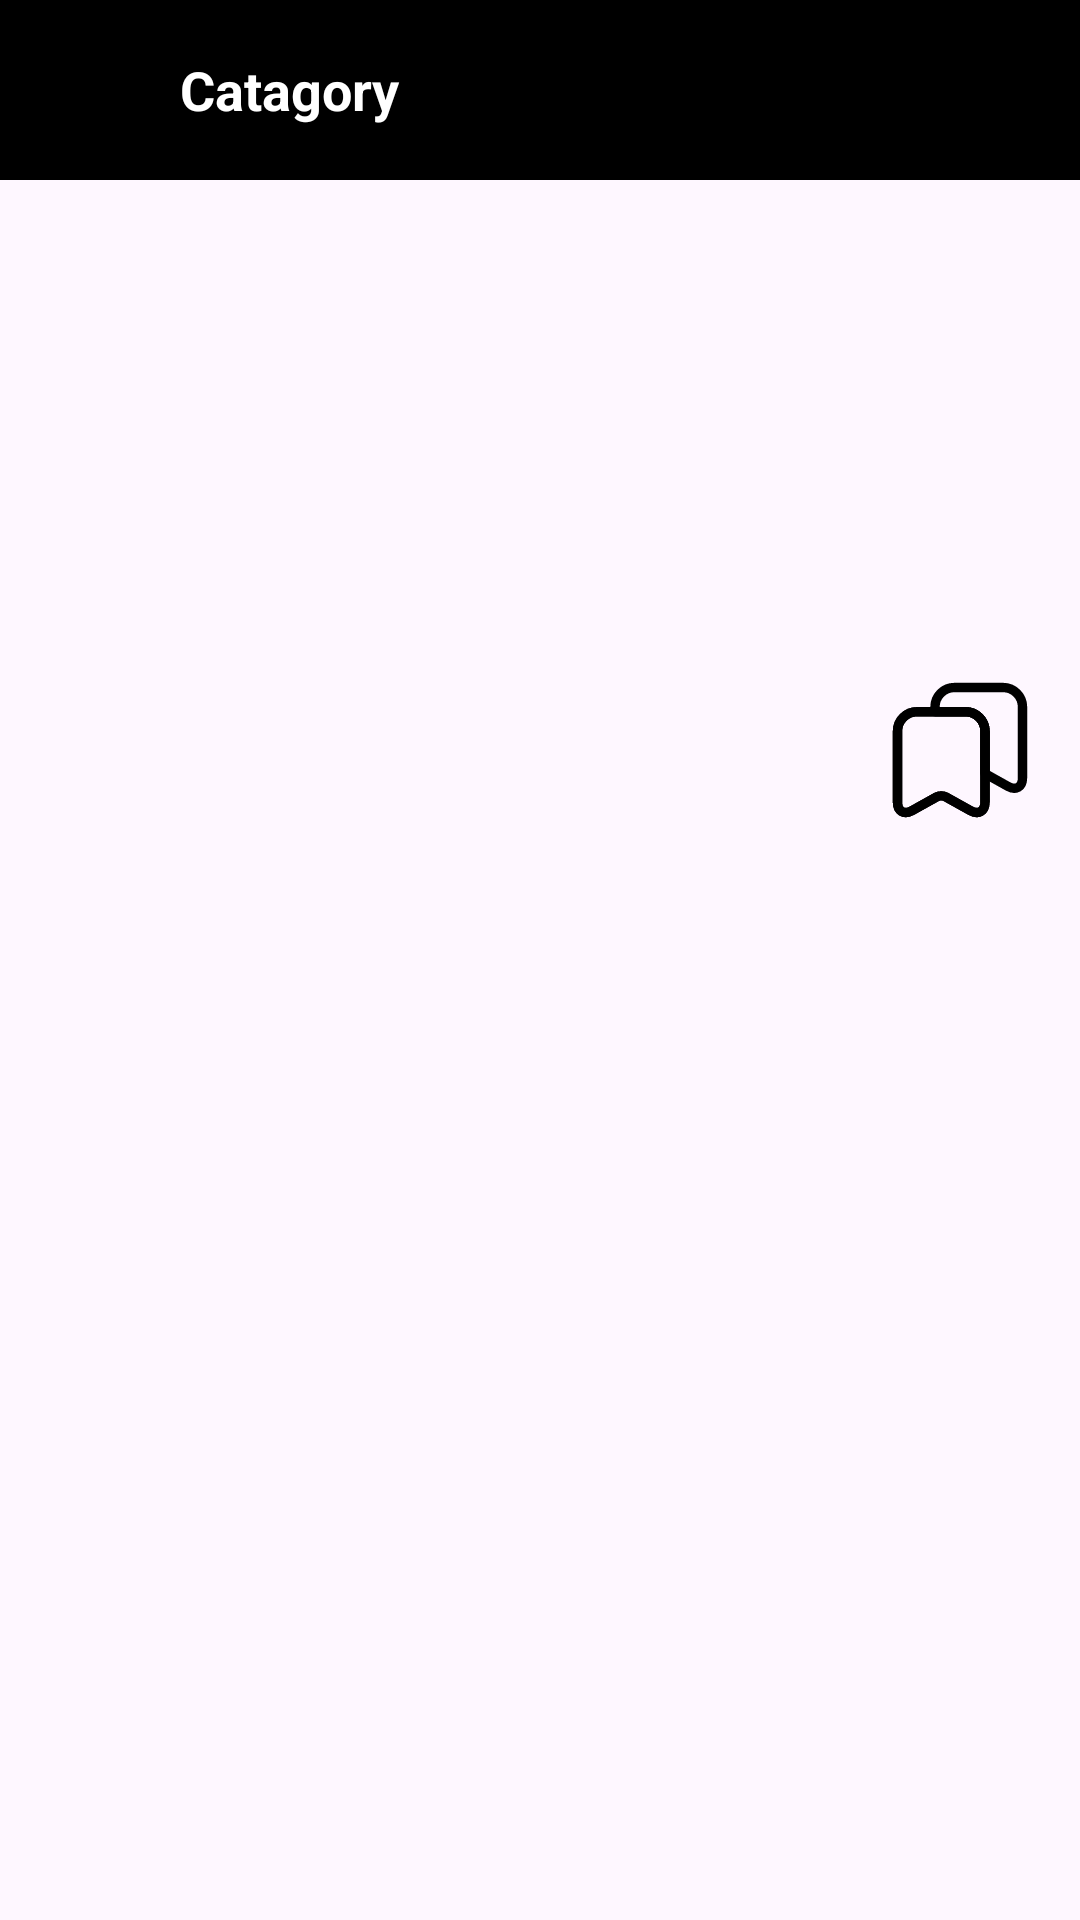

Icons on this 1080 × 1920 Android screen, each with the point to tap as (x,y):
save: (960,750)
